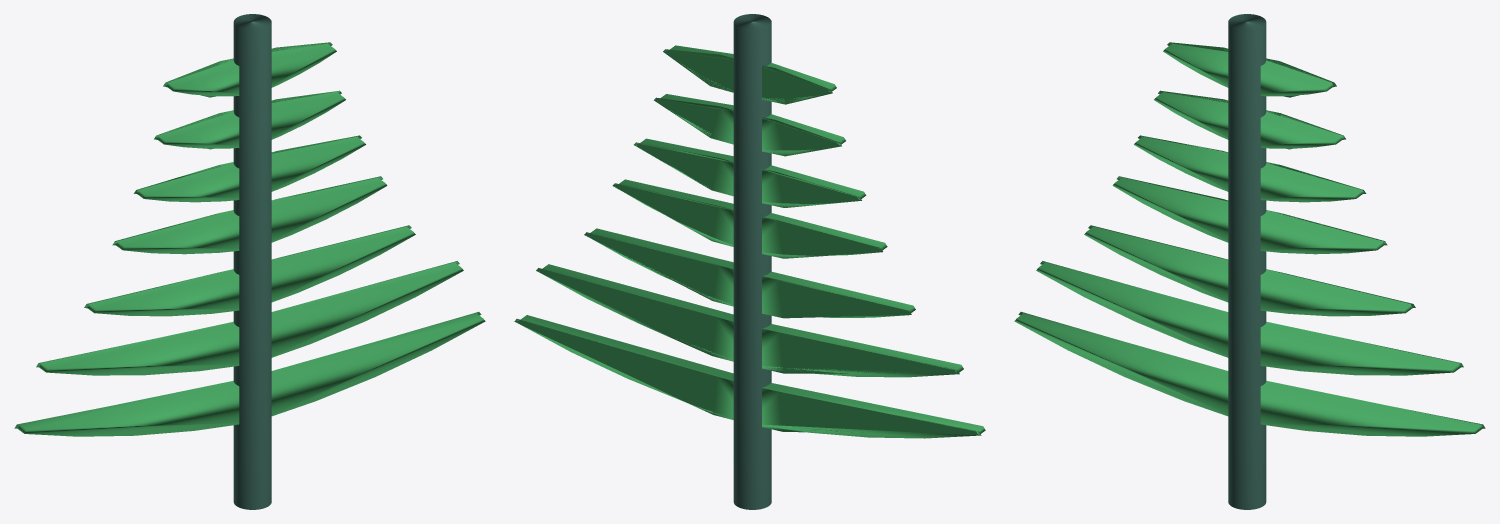
The model's file is Fern.fbx.
The picture shows the model from 3 angles, left to right: view 1: azimuth 30°, elevation 25°; view 2: azimuth 150°, elevation 25°; view 3: azimuth 330°, elevation 25°; orthographic projection.
Parts seen in each view (by area): view 1: Cylinder, Plane, Plane.001, Plane.002, Plane.003, Plane.004, Plane.005, Plane.006; view 2: Cylinder, Plane, Plane.001, Plane.002, Plane.003, Plane.004, Plane.005, Plane.006; view 3: Cylinder, Plane, Plane.001, Plane.002, Plane.003, Plane.004, Plane.005, Plane.006.
Boxes of the visible parts, x1=… form: Cylinder: x1=233, y1=14, x2=271, y2=509; Plane: x1=14, y1=312, x2=485, y2=436; Plane.001: x1=36, y1=261, x2=463, y2=375; Plane.002: x1=84, y1=225, x2=415, y2=316; Plane.003: x1=112, y1=176, x2=387, y2=254; Plane.004: x1=133, y1=135, x2=365, y2=202; Plane.005: x1=154, y1=90, x2=345, y2=149; Plane.006: x1=163, y1=42, x2=336, y2=97; Cylinder: x1=733, y1=14, x2=771, y2=509; Plane: x1=514, y1=315, x2=985, y2=438; Plane.001: x1=536, y1=264, x2=963, y2=377; Plane.002: x1=584, y1=228, x2=915, y2=318; Plane.003: x1=612, y1=179, x2=887, y2=258; Plane.004: x1=634, y1=138, x2=866, y2=207; Plane.005: x1=654, y1=94, x2=845, y2=156; Plane.006: x1=663, y1=45, x2=836, y2=104; Cylinder: x1=1228, y1=14, x2=1266, y2=509; Plane: x1=1014, y1=312, x2=1485, y2=436; Plane.001: x1=1036, y1=261, x2=1463, y2=375; Plane.002: x1=1084, y1=225, x2=1415, y2=316; Plane.003: x1=1112, y1=176, x2=1387, y2=254; Plane.004: x1=1134, y1=135, x2=1366, y2=202; Plane.005: x1=1154, y1=90, x2=1345, y2=149; Plane.006: x1=1163, y1=42, x2=1336, y2=97.
Bounding box in the file's own units: 568 × 557 × 40.
